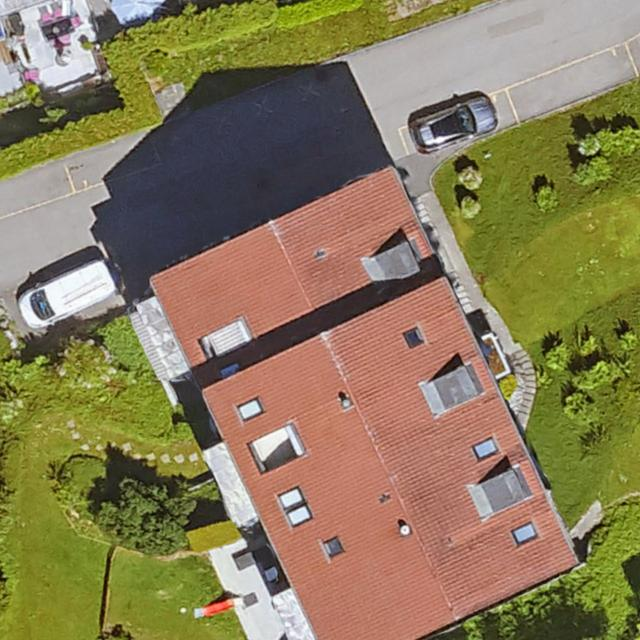tree: (116, 476, 194, 554)
